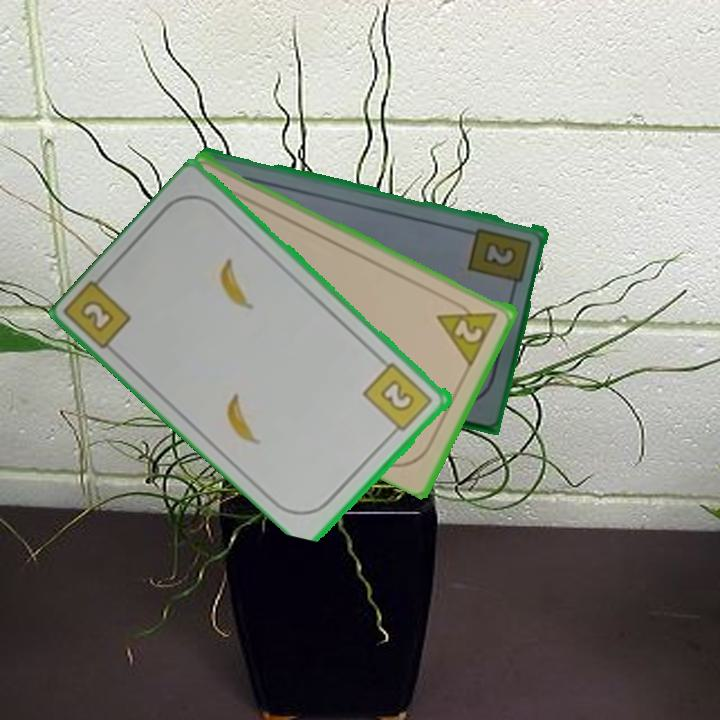2b: (360, 359, 436, 439), (465, 224, 535, 294), (77, 296, 118, 336)
2p: (434, 295, 501, 367)
